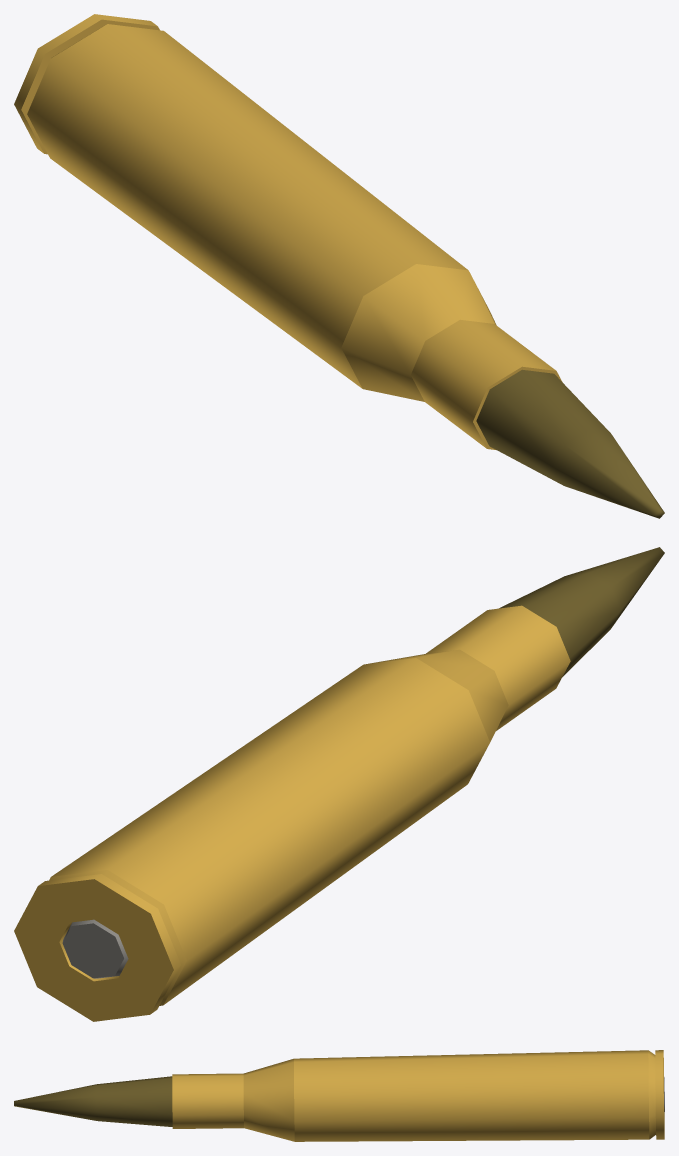
Rendered from Bullet762.FBX.
The picture shows the model from 3 angles, top to bottom: view 1: azimuth 30°, elevation 25°; view 2: azimuth 150°, elevation 25°; view 3: azimuth 270°, elevation 25°; orthographic projection. The views are drawn at different scales.
Visible parts, largest first — view 1: Bullet762; view 2: Bullet762; view 3: Bullet762.
Boxes of the visible parts, x1,y1,x2,y2 form: Bullet762: (14,14,664,518); Bullet762: (14,547,664,1021); Bullet762: (14,1050,664,1141).
Bounding box in the file's own units: 1.57 × 1.38 × 9.63.
